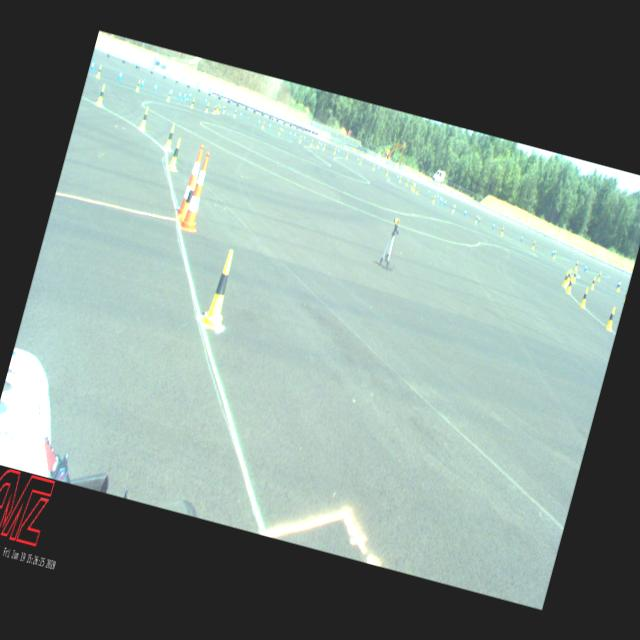blue_cone: (90, 59, 96, 72), (168, 85, 174, 96), (117, 70, 123, 80), (152, 82, 158, 92), (140, 78, 145, 88), (177, 90, 182, 100), (188, 90, 192, 100), (182, 91, 186, 101), (584, 262, 588, 272), (550, 247, 554, 256), (520, 233, 524, 242), (443, 197, 447, 206), (204, 96, 208, 105), (492, 220, 496, 229), (256, 118, 260, 126), (463, 208, 467, 216), (268, 122, 272, 130), (222, 103, 226, 111), (280, 126, 284, 134), (238, 110, 242, 118), (302, 134, 306, 142), (438, 195, 442, 202), (289, 129, 292, 137), (292, 132, 296, 138), (427, 187, 430, 195), (377, 164, 380, 172), (396, 173, 399, 180), (477, 215, 480, 222), (336, 147, 339, 154), (356, 156, 359, 163), (319, 140, 322, 146), (440, 196, 442, 204), (436, 193, 438, 200)
large_orange_cone: (178, 148, 216, 234), (177, 142, 210, 219)
yellow_cone: (201, 248, 240, 330), (178, 174, 202, 224), (168, 137, 184, 170), (164, 124, 177, 150), (604, 306, 616, 330), (138, 105, 150, 128), (95, 84, 106, 106), (580, 287, 590, 307), (565, 275, 574, 294), (562, 270, 570, 287), (565, 268, 572, 284), (96, 64, 102, 78), (590, 276, 596, 289), (572, 269, 578, 282), (166, 89, 172, 102), (136, 78, 142, 90), (204, 102, 210, 112), (622, 289, 626, 302), (190, 98, 195, 108), (212, 104, 217, 114), (574, 259, 578, 270), (597, 272, 602, 280), (500, 226, 504, 236), (298, 134, 302, 144), (222, 105, 226, 114), (217, 105, 221, 114), (216, 102, 220, 111), (532, 240, 536, 248), (432, 194, 436, 202), (232, 110, 236, 118), (322, 142, 326, 150), (552, 250, 556, 258), (262, 120, 266, 128), (474, 215, 478, 223), (278, 127, 282, 135), (451, 204, 455, 212), (309, 139, 313, 146), (316, 141, 320, 148), (398, 175, 402, 182), (412, 185, 416, 192), (405, 178, 408, 185), (416, 186, 419, 193), (359, 158, 362, 165), (372, 163, 375, 170), (346, 152, 348, 160), (412, 183, 414, 191), (334, 147, 336, 154), (386, 169, 388, 176), (411, 182, 413, 188)
